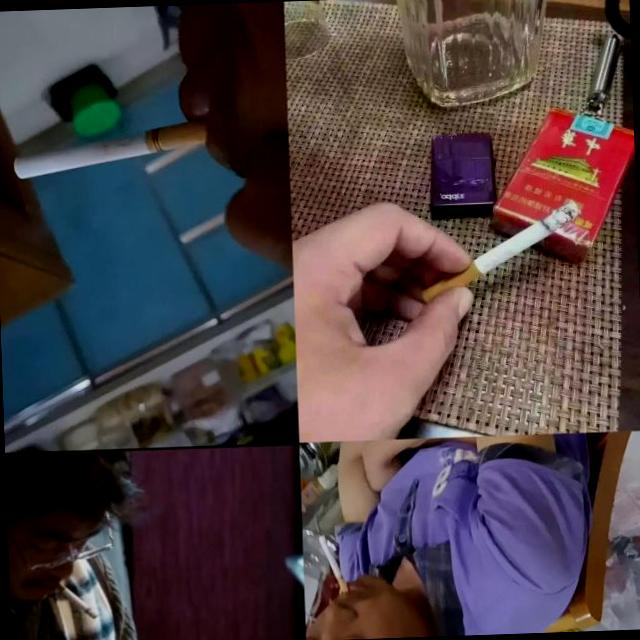smoke: (292, 190, 590, 444), (11, 120, 208, 180), (44, 574, 108, 623), (317, 534, 348, 592)
